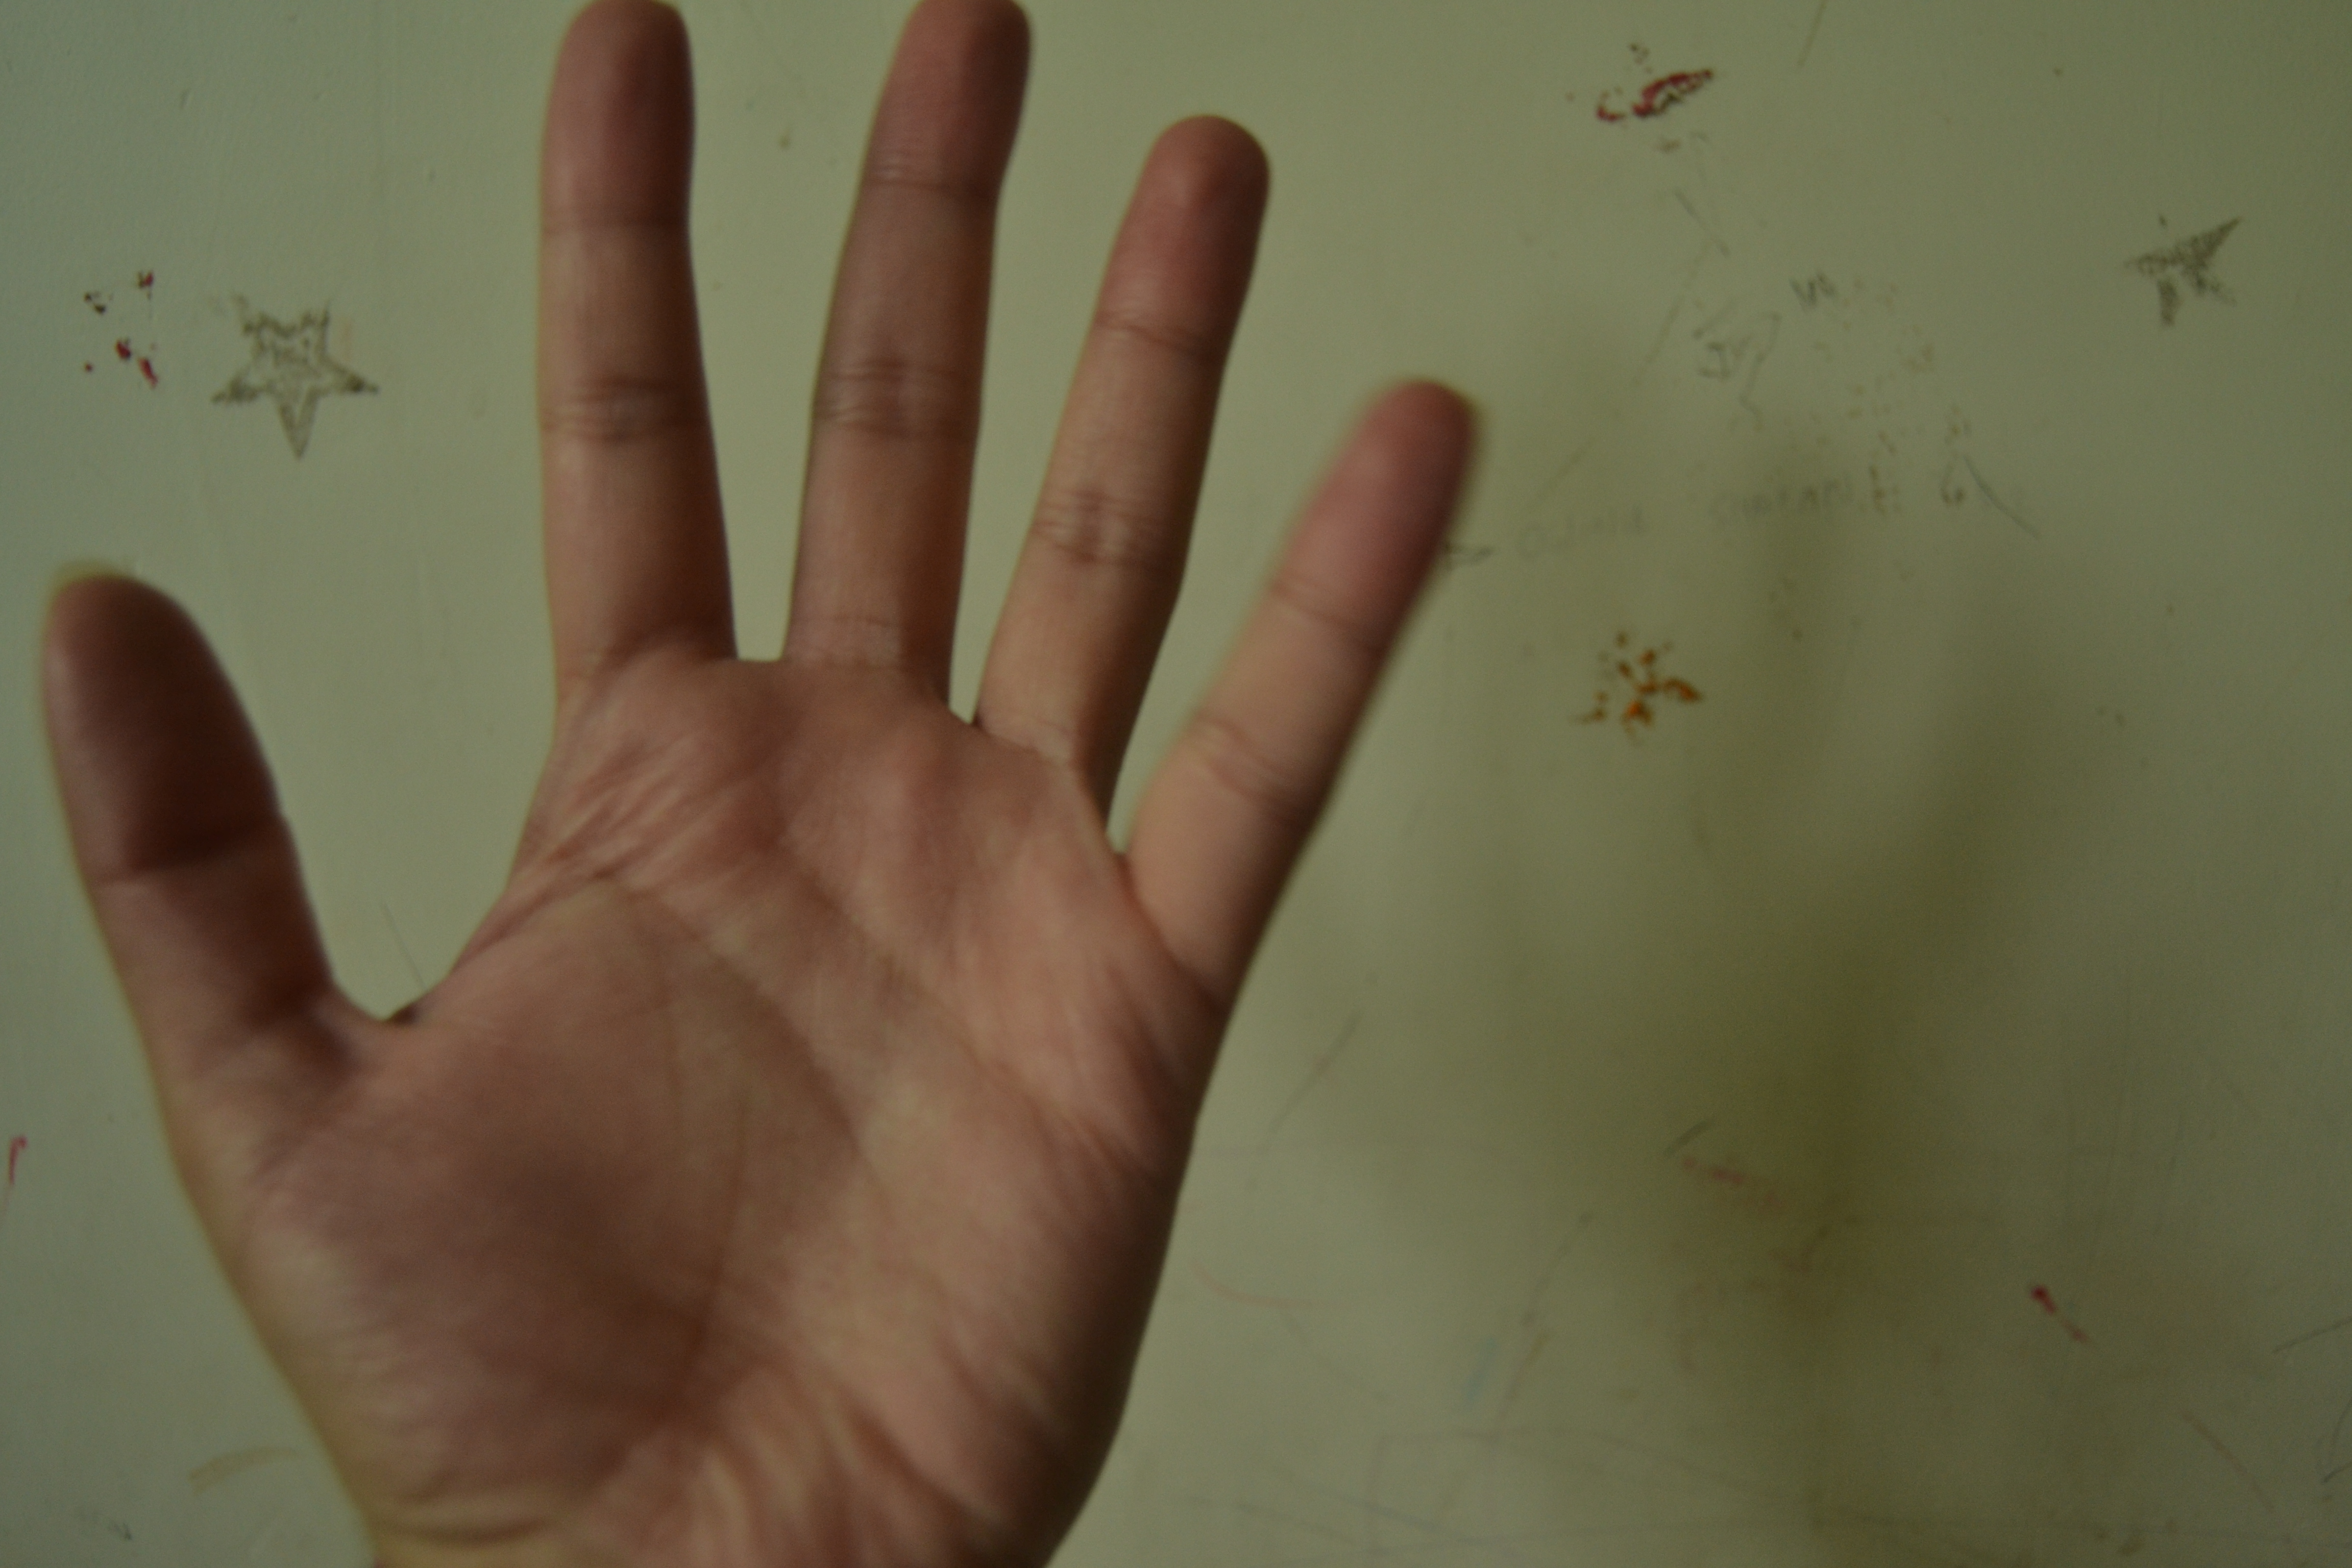move: (54, 33, 1526, 1505)
